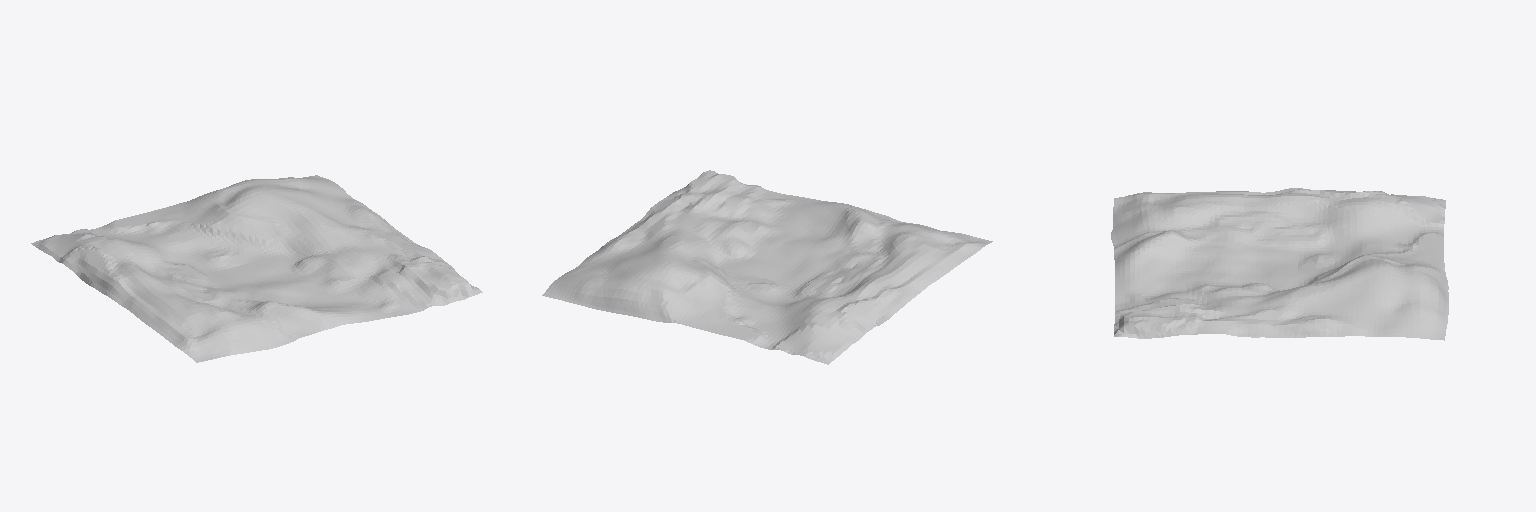
The model's file is ter.obj.
3 views of the same model, side by side, from view 1: azimuth 30°, elevation 25°; view 2: azimuth 150°, elevation 25°; view 3: azimuth 270°, elevation 25° (orthographic).
Visible parts, largest first — view 1: Plane_Plane.002; view 2: Plane_Plane.002; view 3: Plane_Plane.002.
Part boxes in pixels (left/top/right/bottom): Plane_Plane.002: left=31, top=175, right=482, bottom=362; Plane_Plane.002: left=542, top=170, right=992, bottom=364; Plane_Plane.002: left=1111, top=188, right=1448, bottom=340.
Size of the model in its own units: 63.5 by 6.28 by 63.96.